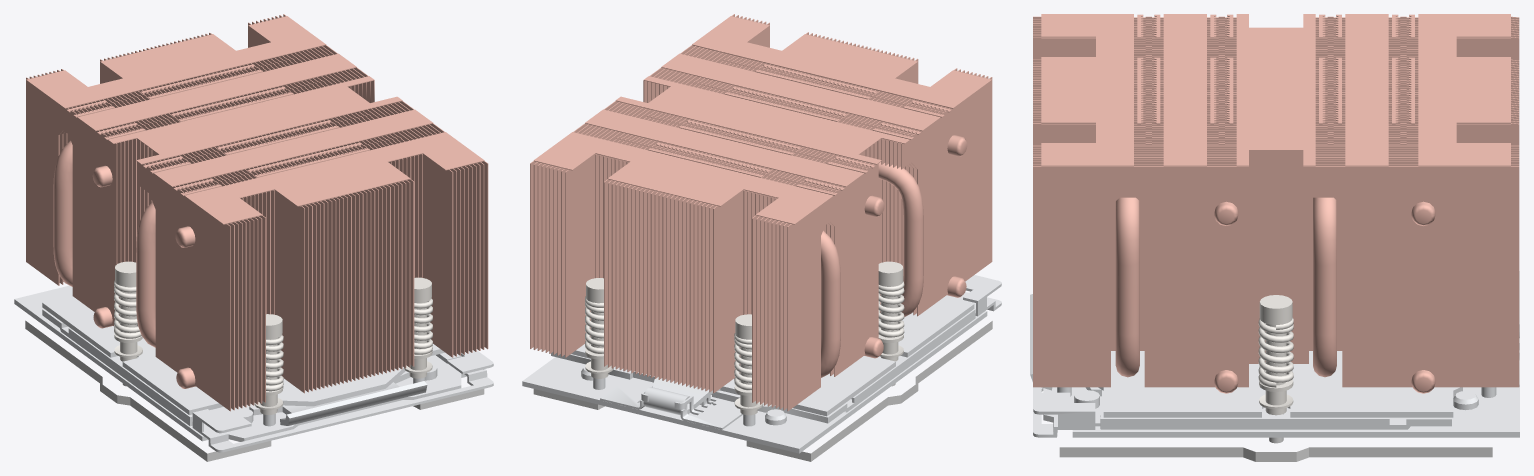
Rendered from cosmo-heatsink-1.glb.
The picture shows the model from 3 angles, left to right: view 1: azimuth 30°, elevation 25°; view 2: azimuth 150°, elevation 25°; view 3: azimuth 270°, elevation 25°; orthographic projection. The views are drawn at different scales.
Visible parts, largest first — view 1: Cube.193, Cube.126, OXC991-0000150_sm-SHARKFIN BRACKET, COSMO.025, Cube.136, Cube.165, Plane.027, NurbsPath.009, NurbsPath.011, Cylinder.036, Cylinder.035, Cylinder.034, Cube.127 (+51 smaller); view 2: Cube.193, Cube.126, OXC991-0000150_sm-SHARKFIN BRACKET, COSMO.025, Cube.136, Cube.165, NurbsPath.009, NurbsPath.011, Plane.027, Cylinder.036, Cylinder.033, Cylinder.032, Cube.131 (+52 smaller); view 3: Cube.174, Cube.193, OXC991-0000150_sm-SHARKFIN BRACKET, COSMO.025, Cube.192, Plane.027, NurbsPath.008, NurbsPath.010, Cylinder.037, Cube.135, Cube.164, NurbsPath.011, NurbsPath.009 (+2 smaller).
Boxes of the visible parts, bbox=[...] form: Cube.193: bbox=[26, 16, 484, 224]; Cube.126: bbox=[26, 77, 230, 411]; OXC991-0000150_sm-SHARKFIN BRACKET, COSMO.025: bbox=[14, 285, 493, 452]; Cube.136: bbox=[100, 59, 304, 393]; Cube.165: bbox=[248, 22, 453, 357]; Plane.027: bbox=[25, 320, 484, 461]; NurbsPath.009: bbox=[136, 202, 155, 347]; NurbsPath.011: bbox=[53, 140, 72, 286]; Cylinder.036: bbox=[114, 261, 142, 361]; Cylinder.035: bbox=[404, 277, 432, 378]; Cylinder.034: bbox=[254, 314, 283, 414]; Cube.127: bbox=[29, 76, 234, 410]; Cube.193: bbox=[533, 16, 991, 224]; Cube.126: bbox=[787, 77, 992, 411]; OXC991-0000150_sm-SHARKFIN BRACKET, COSMO.025: bbox=[522, 275, 1001, 453]; Cube.136: bbox=[713, 58, 918, 393]; Cube.165: bbox=[565, 22, 769, 357]; NurbsPath.009: bbox=[878, 162, 923, 316]; NurbsPath.011: bbox=[821, 230, 840, 377]; Plane.027: bbox=[533, 321, 992, 461]; Cylinder.036: bbox=[878, 261, 904, 361]; Cylinder.033: bbox=[585, 278, 613, 378]; Cylinder.032: bbox=[734, 314, 763, 415]; Cube.131: bbox=[767, 72, 972, 406]; Cube.174: bbox=[1033, 166, 1519, 387]; Cube.193: bbox=[1041, 14, 1510, 166]; OXC991-0000150_sm-SHARKFIN BRACKET, COSMO.025: bbox=[1030, 271, 1519, 437]; Cube.192: bbox=[1111, 143, 1418, 363]; Plane.027: bbox=[1059, 414, 1492, 461]; NurbsPath.008: bbox=[1115, 197, 1139, 377]; NurbsPath.010: bbox=[1313, 197, 1336, 377]; Cylinder.037: bbox=[1258, 295, 1293, 415]; Cube.135: bbox=[1033, 35, 1519, 60]; Cube.164: bbox=[1033, 121, 1519, 145]; NurbsPath.011: bbox=[1411, 201, 1435, 393]; NurbsPath.009: bbox=[1214, 201, 1238, 393].
Bounding box in the file's own units: 0.0976 × 0.0769 × 0.1188.
